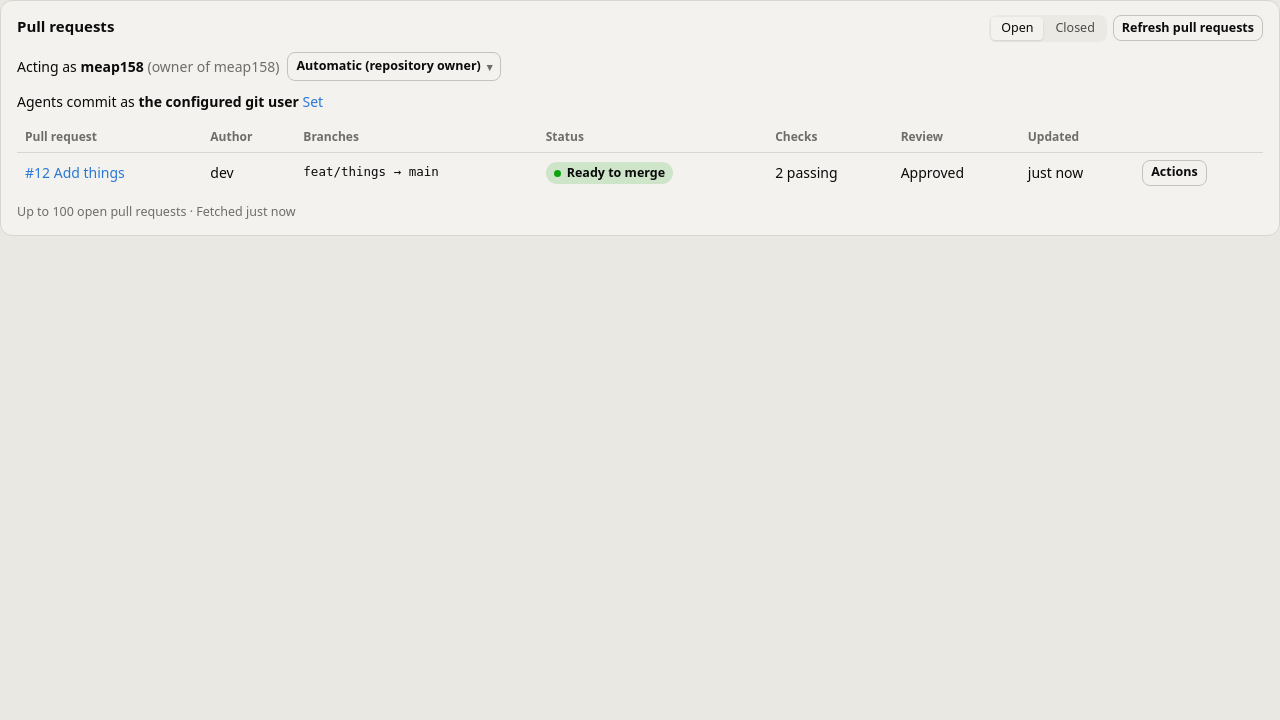
Test: merges with the first allowed method after an in-app confirmation, then refreshes
The width and height of the screenshot is (1280, 720).
Click the button with aria-label "Actions for #12" at (1174, 172), box x1=1142 y1=160 x2=1207 y2=186
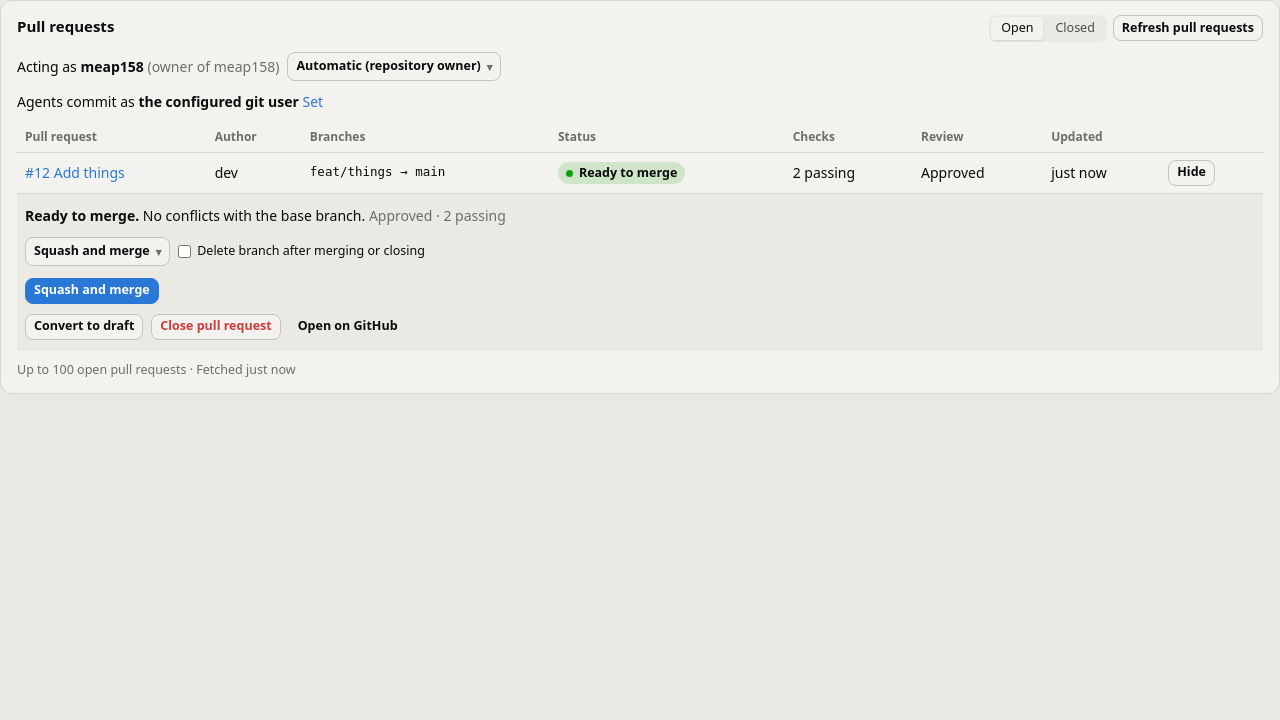
Click the checkbox labelled "Delete branch after merging or closing" at (185, 252), box x1=178 y1=245 x2=191 y2=258
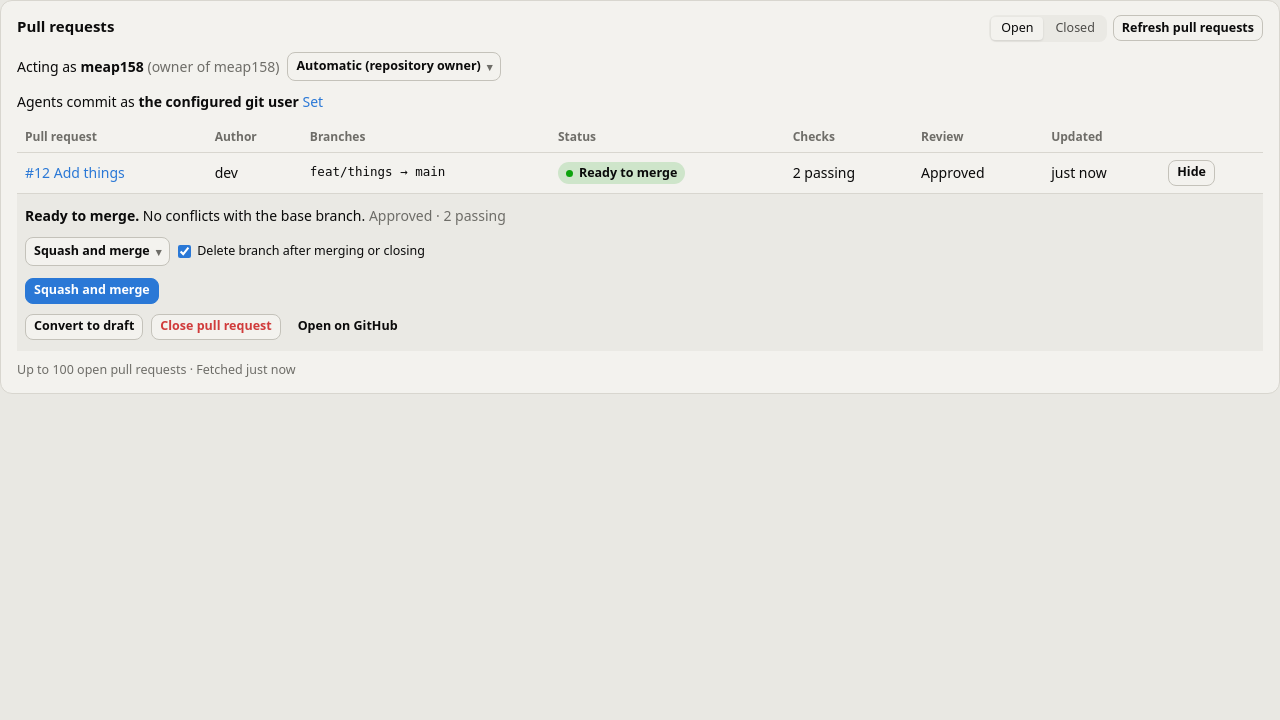
Click the button "Squash and merge" at (92, 290), box x1=25 y1=278 x2=159 y2=304
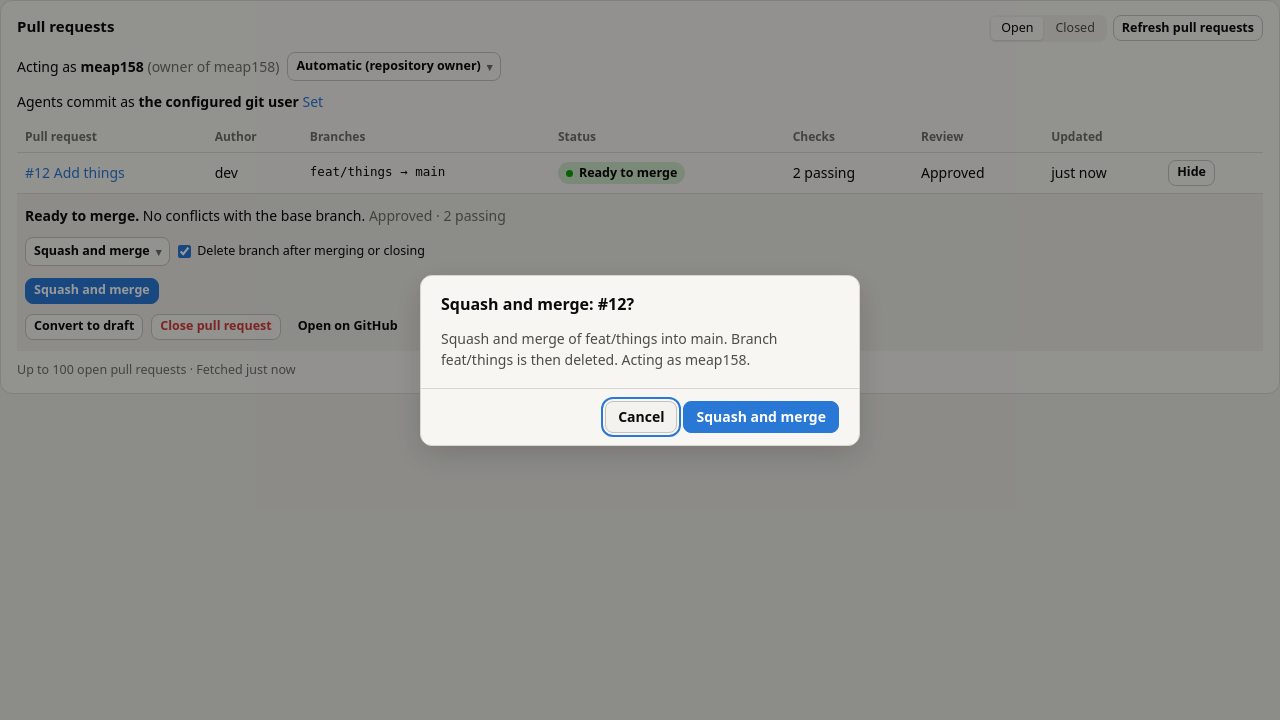
Click the button "Squash and merge" below "Squash and merge: #12?" at (761, 416), box x1=683 y1=400 x2=839 y2=432
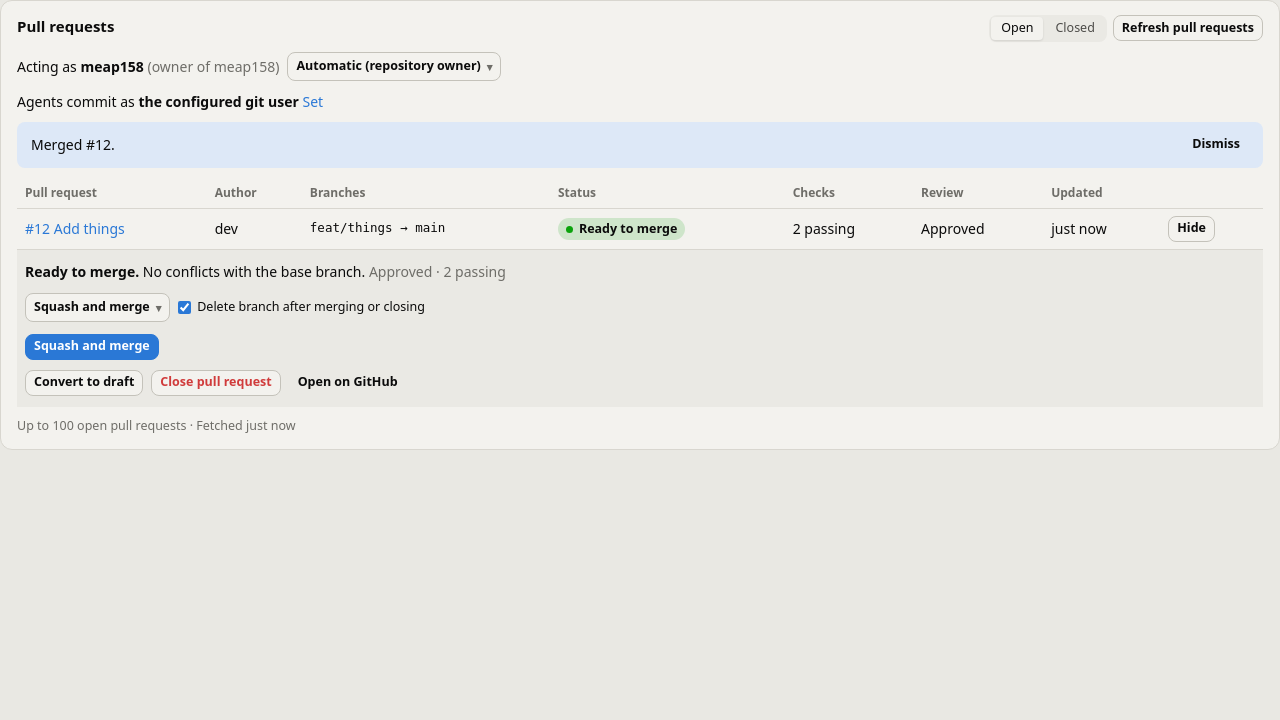
expect the text "Merged #12." is shown: met, box x1=31 y1=134 x2=115 y2=155
